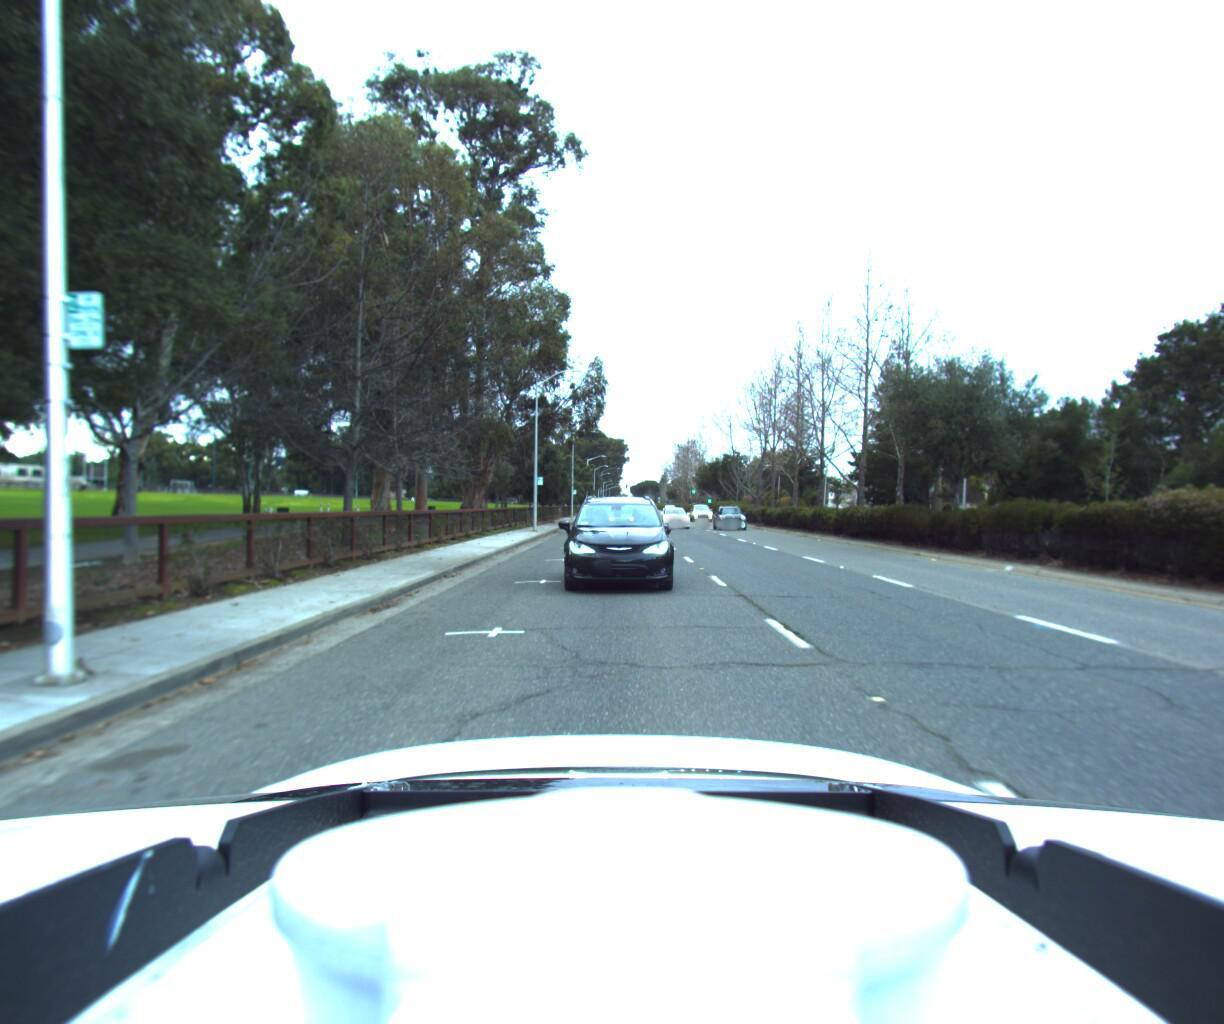car: (558, 491, 669, 594), (711, 502, 751, 528), (658, 503, 690, 527), (691, 502, 718, 520)
